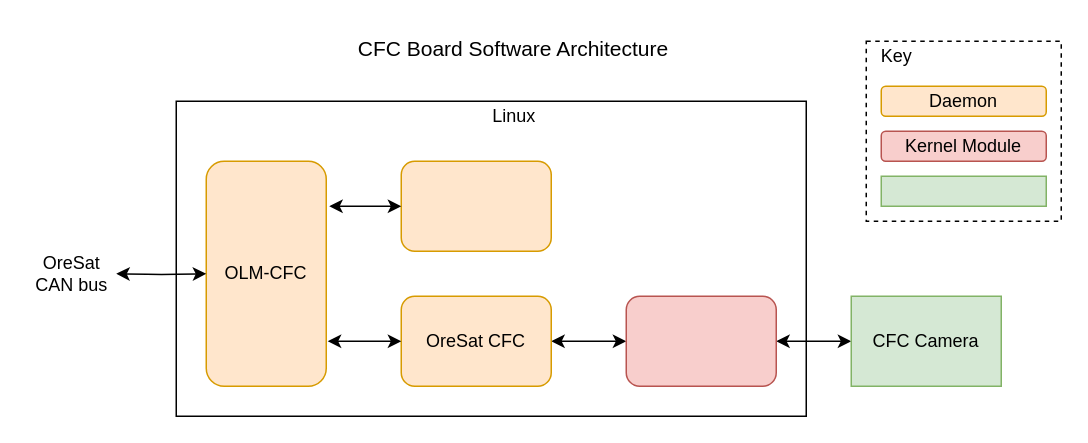
Image size: 1088x443. Some labels were removed from this diagram. The centre of each missing label's shape, as x and y in pixels:
"External Hardware" belongs at (963,190).
"OreSat Linux Updater" belongs at (475,205).
"prucam" belongs at (700,340).
